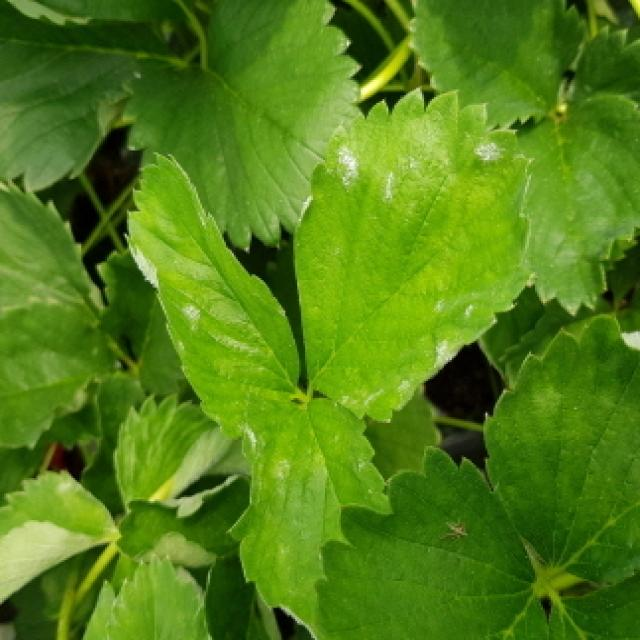Powdery Mildew Leaf: (291, 85, 531, 424), (314, 445, 575, 640), (122, 152, 301, 436), (480, 316, 640, 587), (227, 396, 393, 640), (0, 470, 122, 606)
